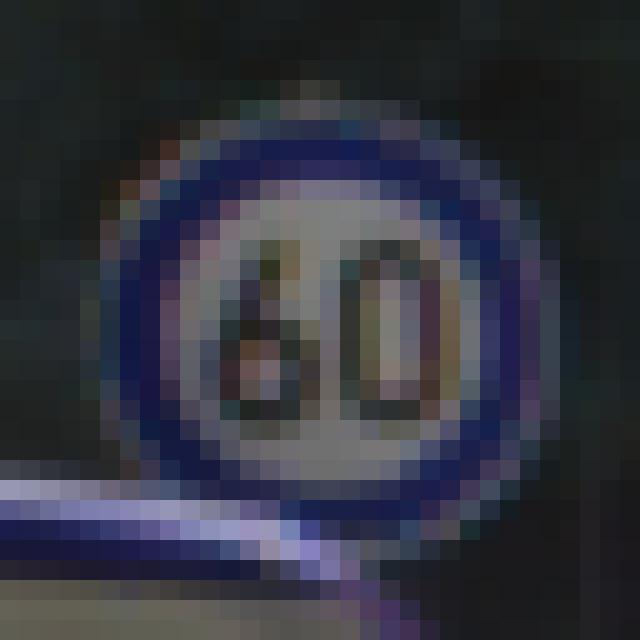SPEED-LIMIT-60: (70, 76, 569, 569)
